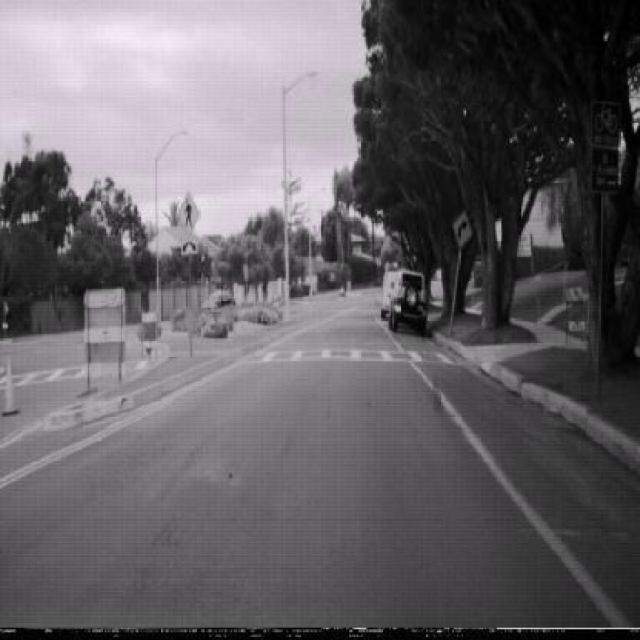curveRight: (452, 208, 473, 248)
pedestrianCrossing: (177, 189, 201, 237)
